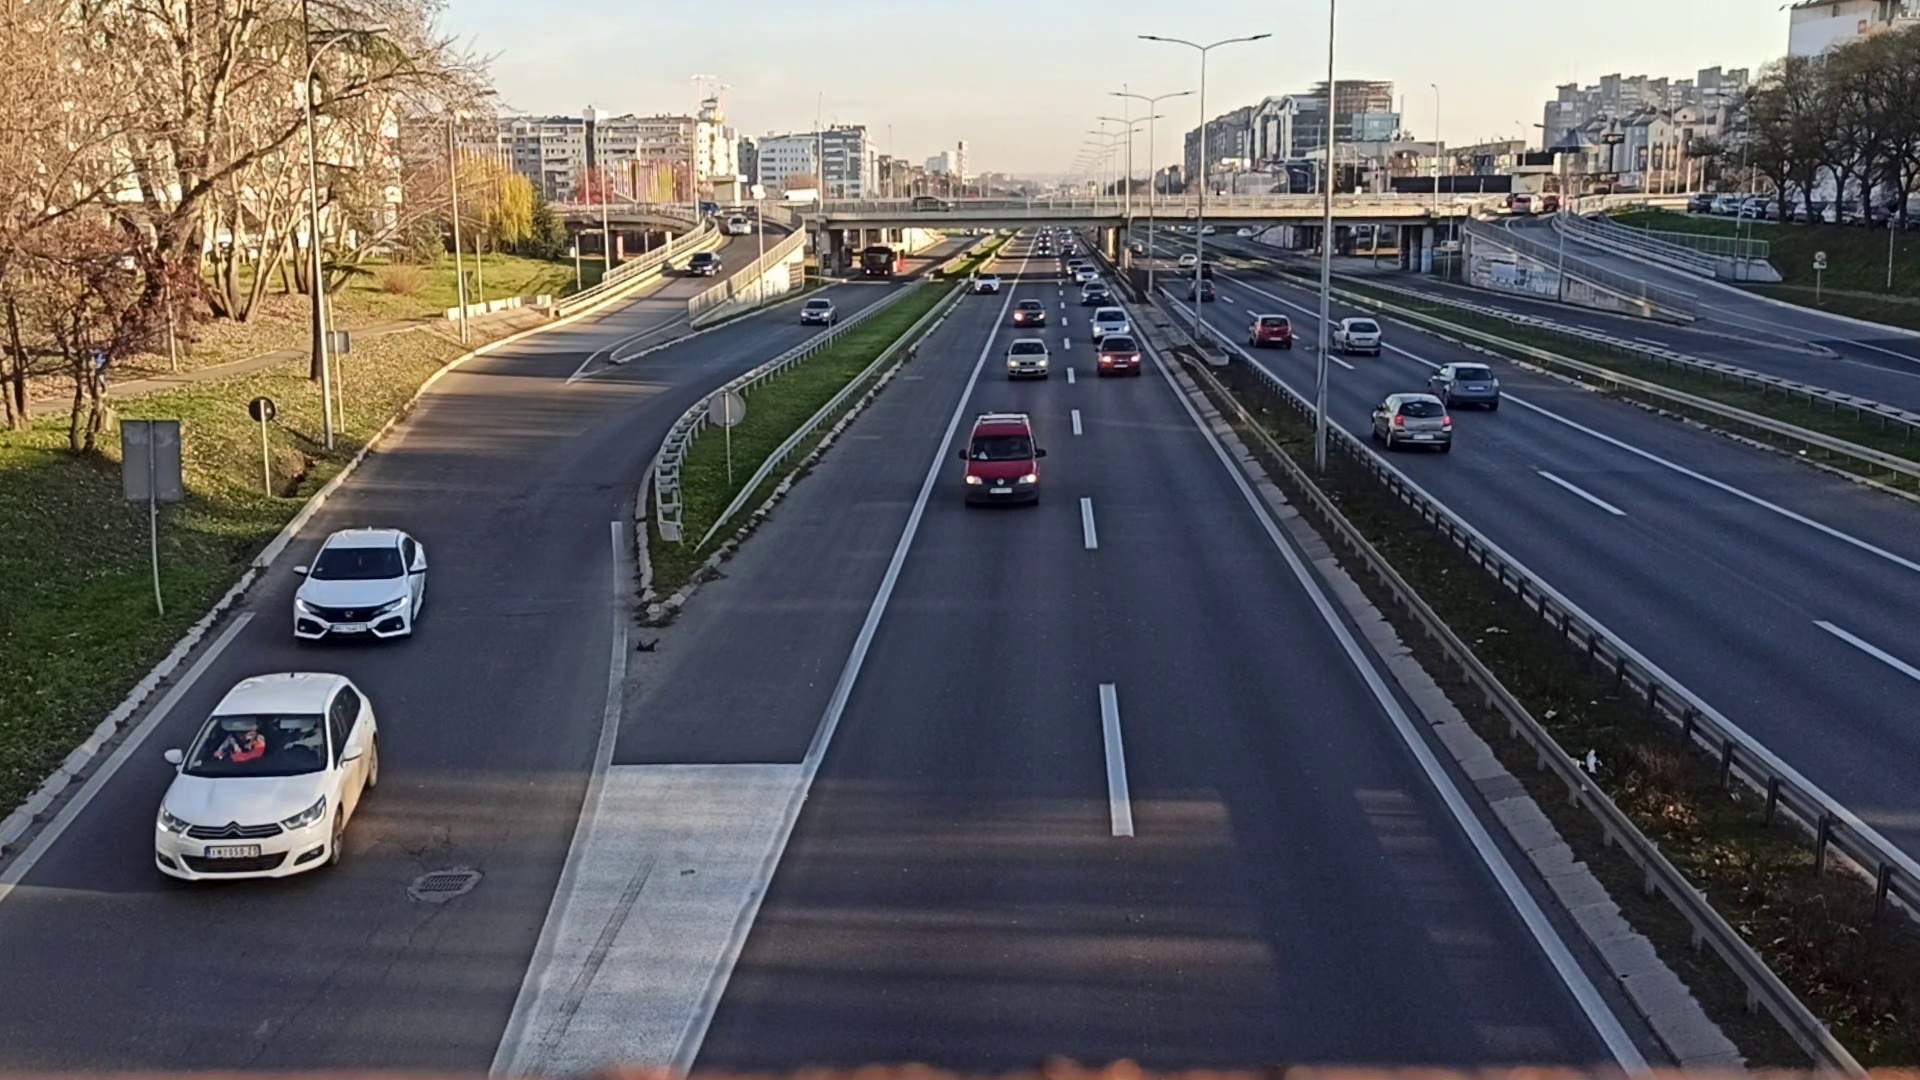car: (150, 673, 385, 897), (293, 526, 425, 651), (964, 414, 1044, 509), (1370, 392, 1455, 458), (1429, 360, 1502, 409), (1331, 319, 1383, 356), (1005, 339, 1051, 380), (1095, 338, 1143, 375), (1246, 314, 1291, 349), (1089, 307, 1129, 338), (1015, 299, 1044, 324)
